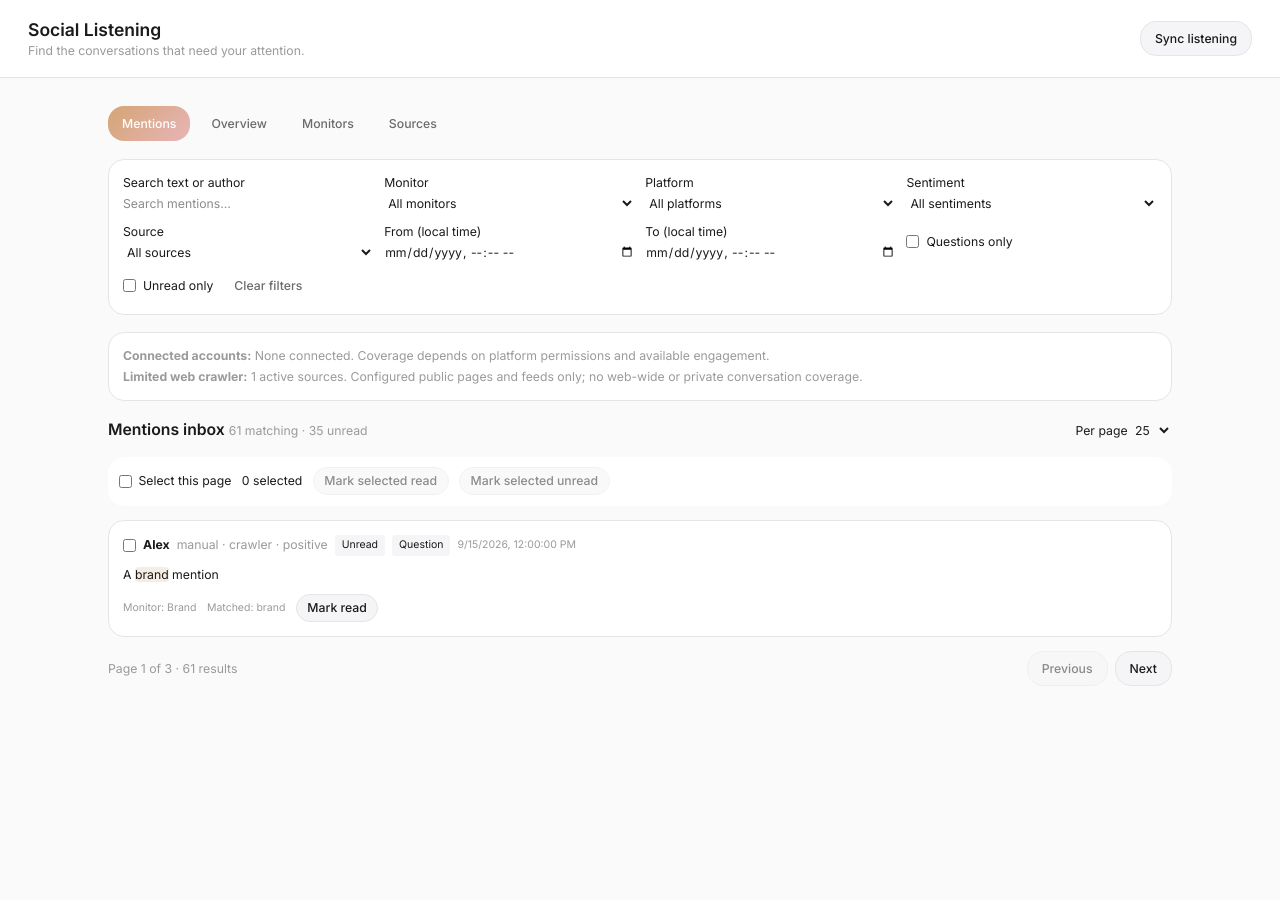
Scenario: listening workspace › shows the inbox first and full dataset totals in overview
Expected: the text "Alex" is shown, x1=143 y1=536 x2=170 y2=554
Expected: the text "61 matching · 35 unread" is shown, x1=229 y1=423 x2=368 y2=438
Click the button "Overview". click: (239, 124)
box: x1=197 y1=106 x2=281 y2=141
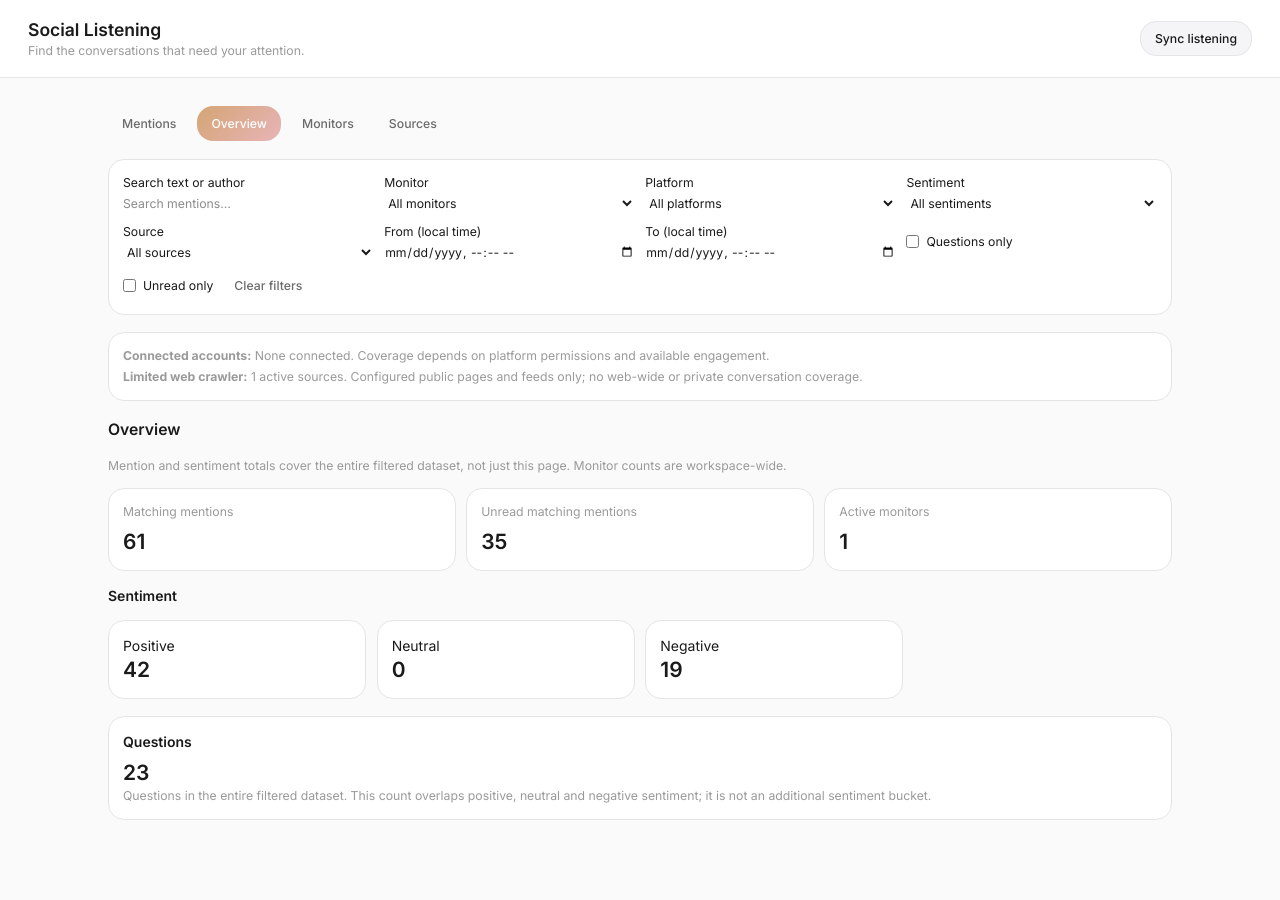
Now the text "42" is shown, box x1=123 y1=656 x2=150 y2=682
Now the text "23" is shown, box x1=123 y1=760 x2=150 y2=785
Now the text "This count overlaps" is shown, box x1=123 y1=788 x2=931 y2=803
